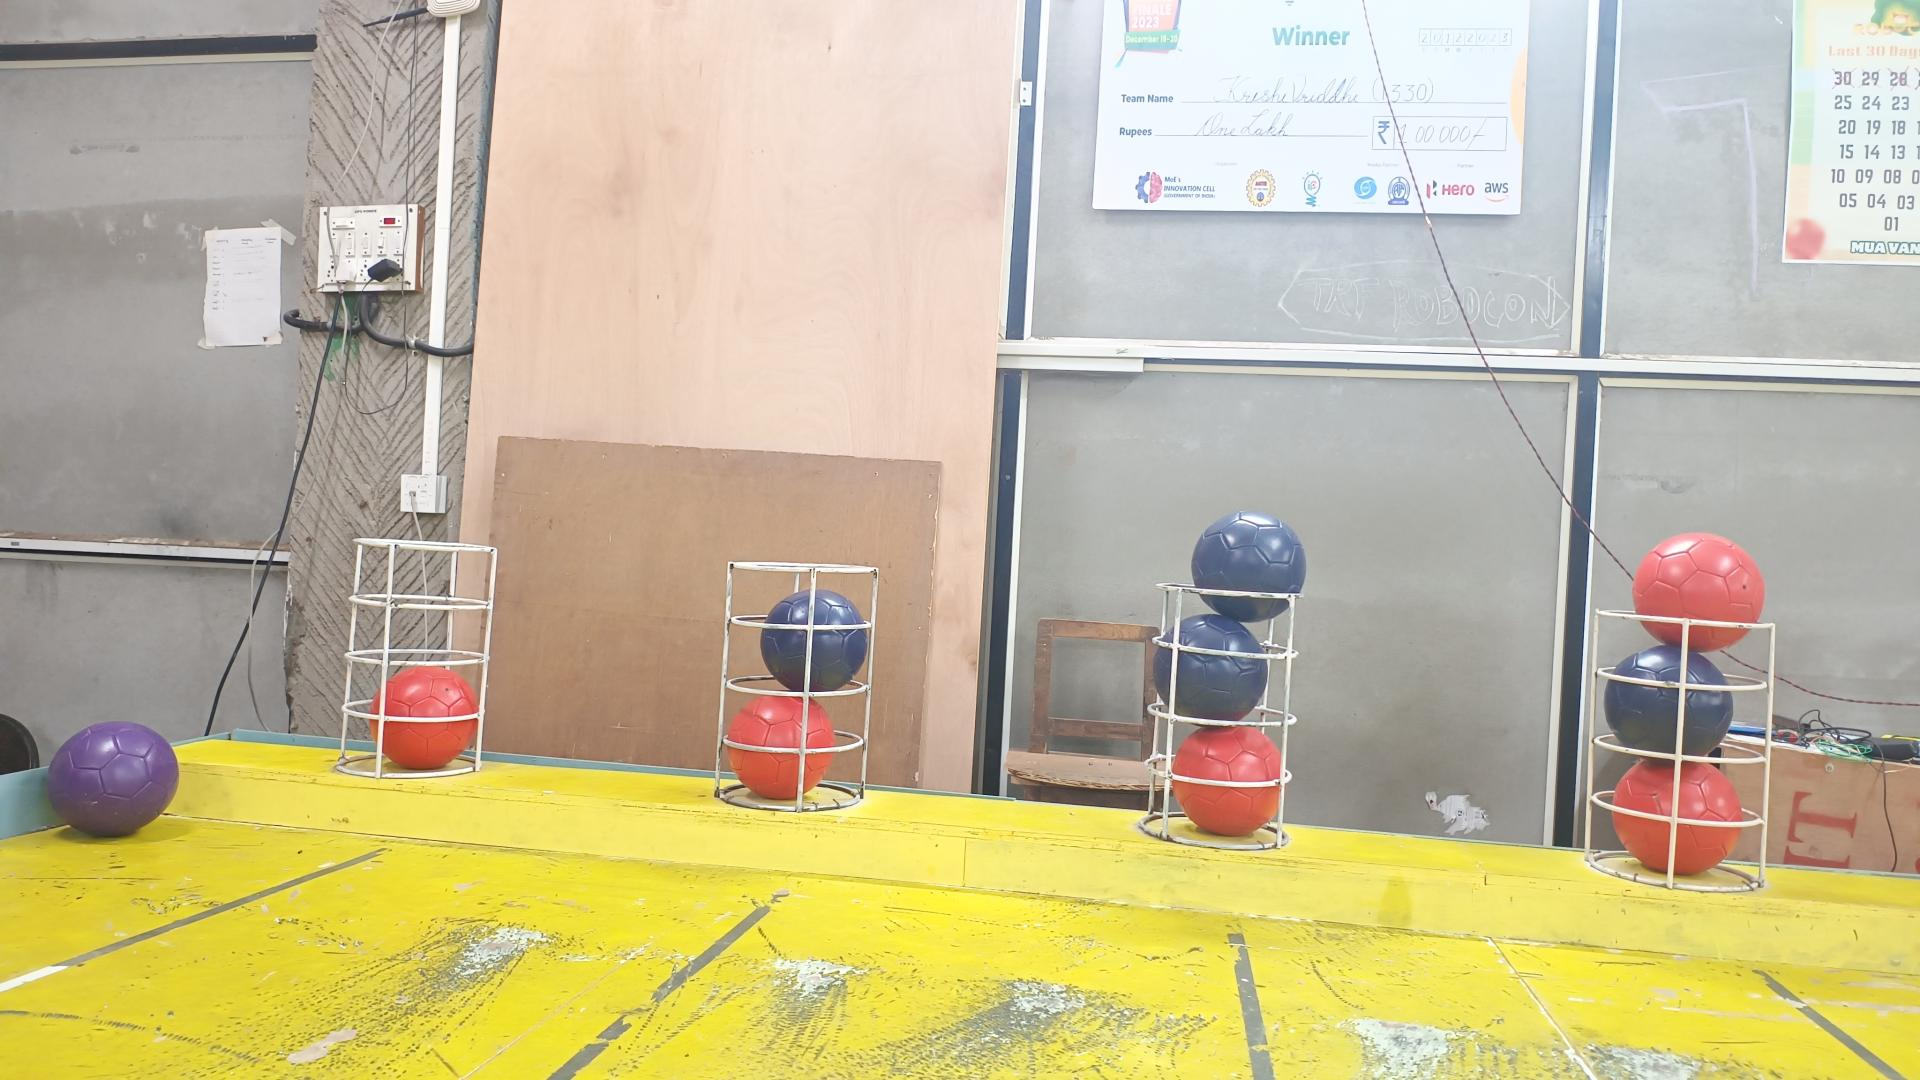dhoka: (1605, 645, 1733, 757), (1192, 510, 1305, 622), (1151, 612, 1267, 720), (761, 588, 866, 694)
laale: (1631, 533, 1766, 653), (1613, 757, 1743, 877), (1170, 728, 1283, 836), (368, 663, 480, 769), (728, 694, 836, 799)
